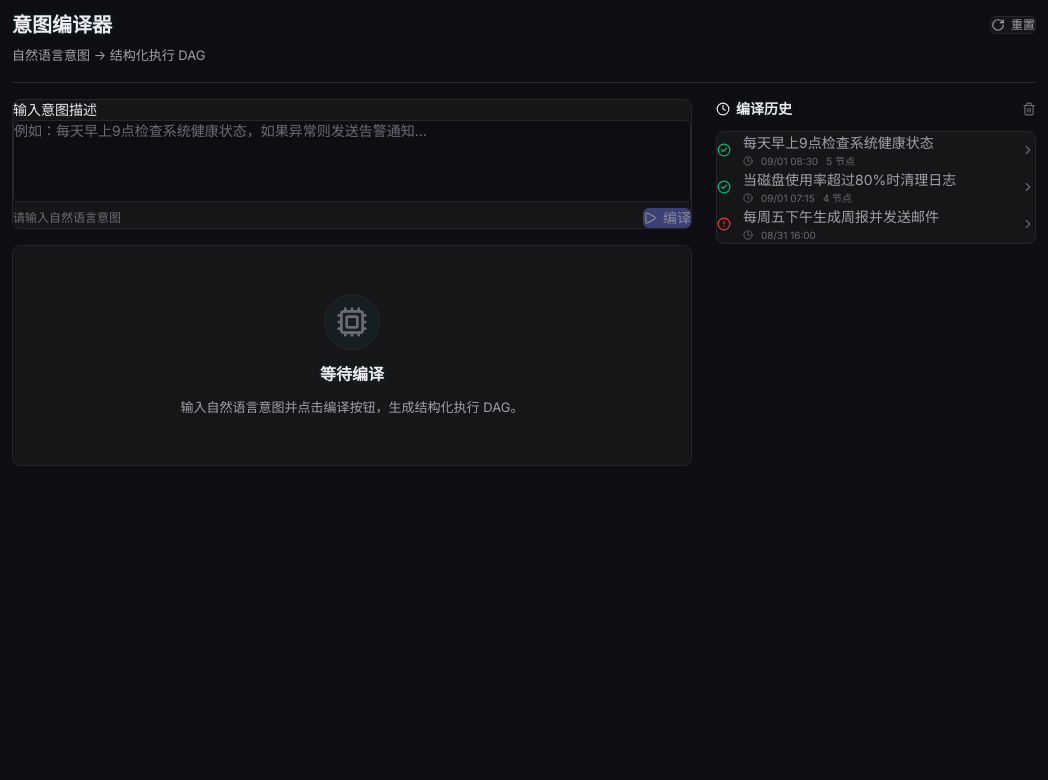
IntentCompiler › state changes › renders fallback result when API is unavailable
The image size is (1048, 780).
Type "回退测试" into the text box with test id "intent-input" at (352,160), box [13,120,691,202]
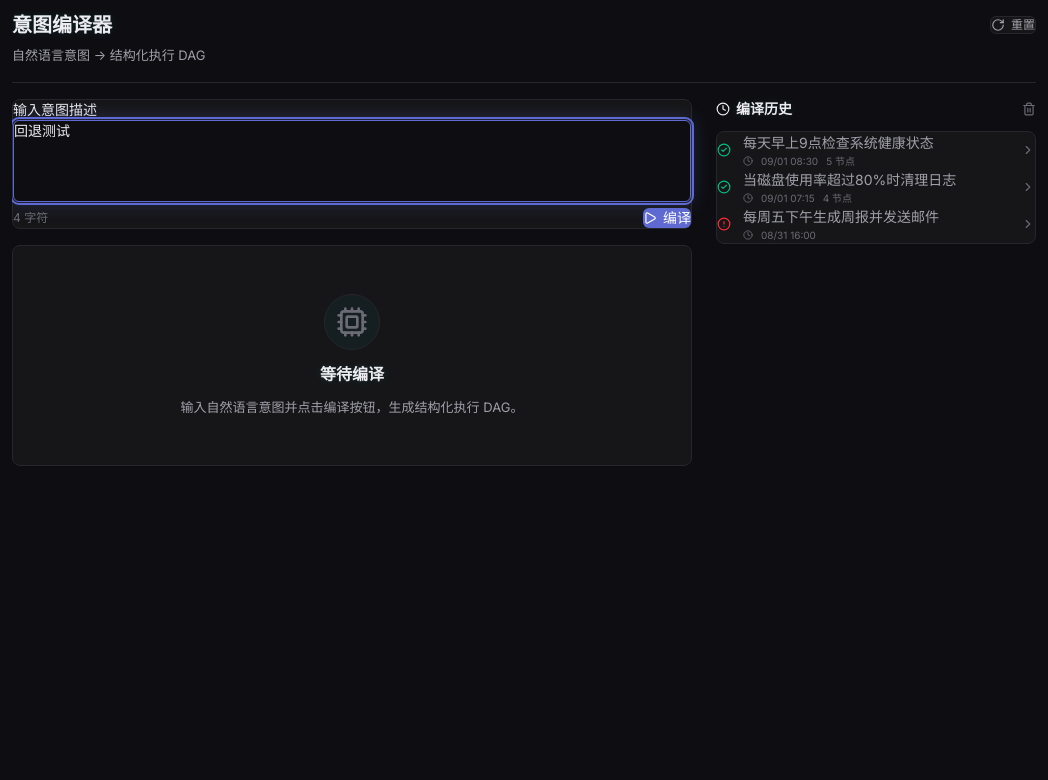
Click the button with test id "compile-btn" at (667,218), box [643,208,691,228]
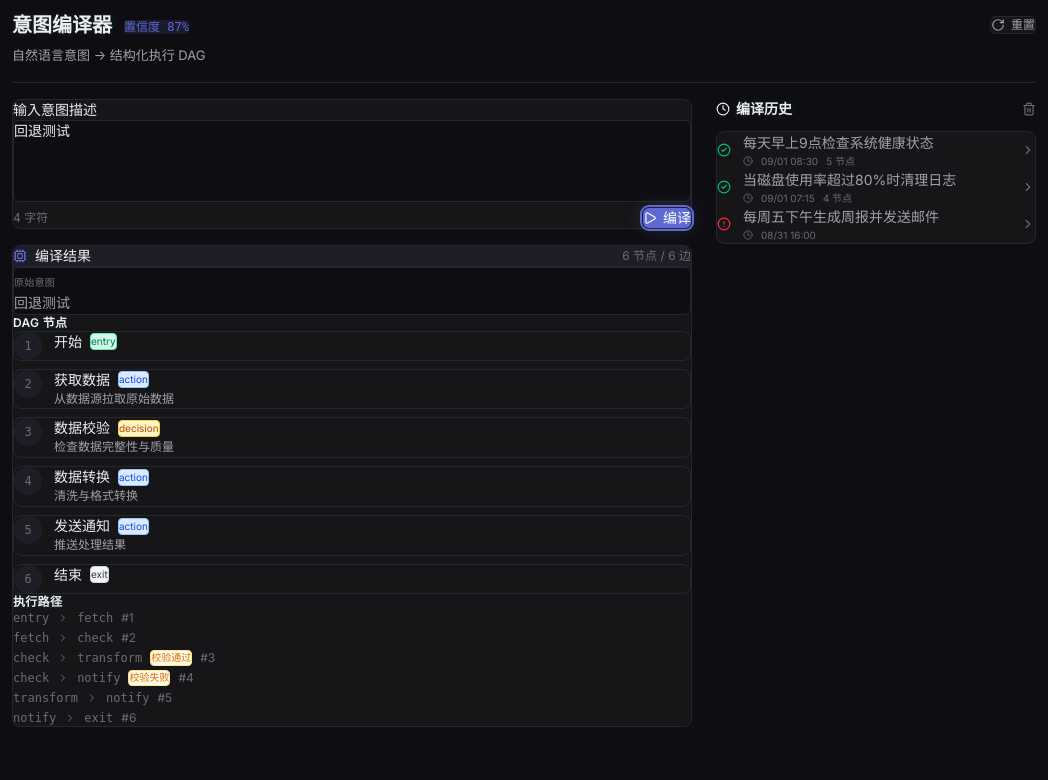
Check: the text "编译结果" is shown, box [35,246,91,266]
Check: the element with test id "dag-node" showing "1 开始 entry" is shown, box [13,330,691,360]
